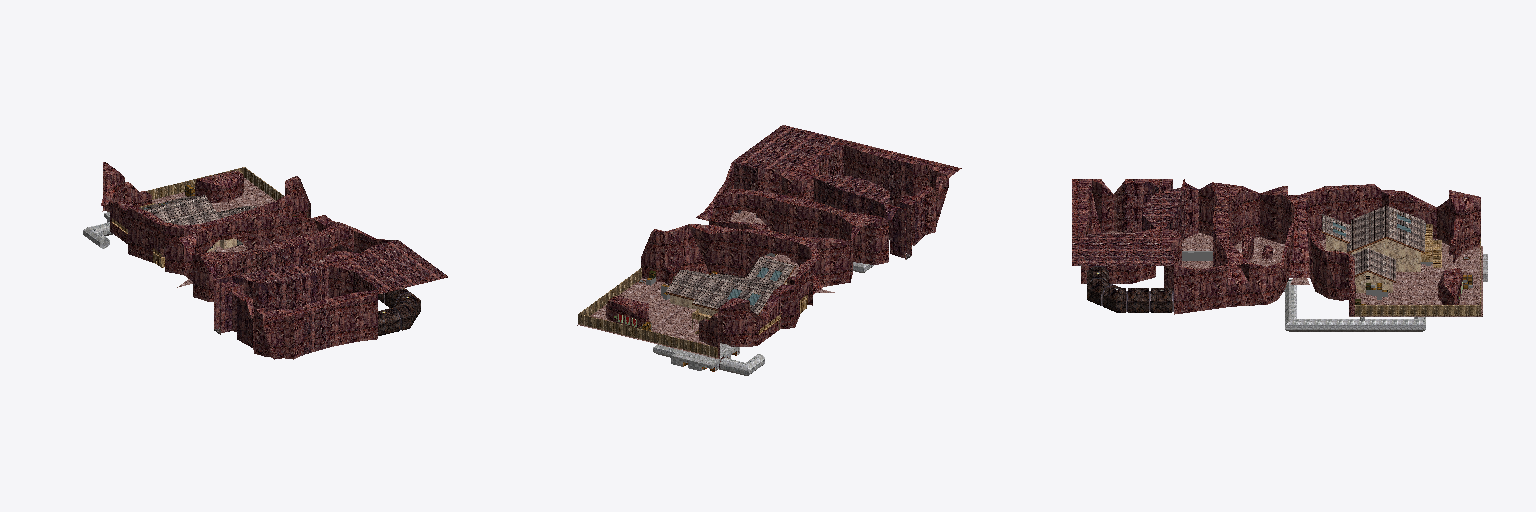
3 views of the same model, side by side, from view 1: azimuth 30°, elevation 25°; view 2: azimuth 150°, elevation 25°; view 3: azimuth 270°, elevation 25° (orthographic).
Parts seen in each view (by area): view 1: BSP_Object_model_0; view 2: BSP_Object_model_0; view 3: BSP_Object_model_0.
Boxes of the visible parts, box(x1,y1,x2,y2) form: BSP_Object_model_0: box(83, 162, 447, 359); BSP_Object_model_0: box(577, 125, 961, 375); BSP_Object_model_0: box(1072, 179, 1487, 331).
Size of the model in its own units: 2415 by 855 by 4852.
117 materials, 82 textured.